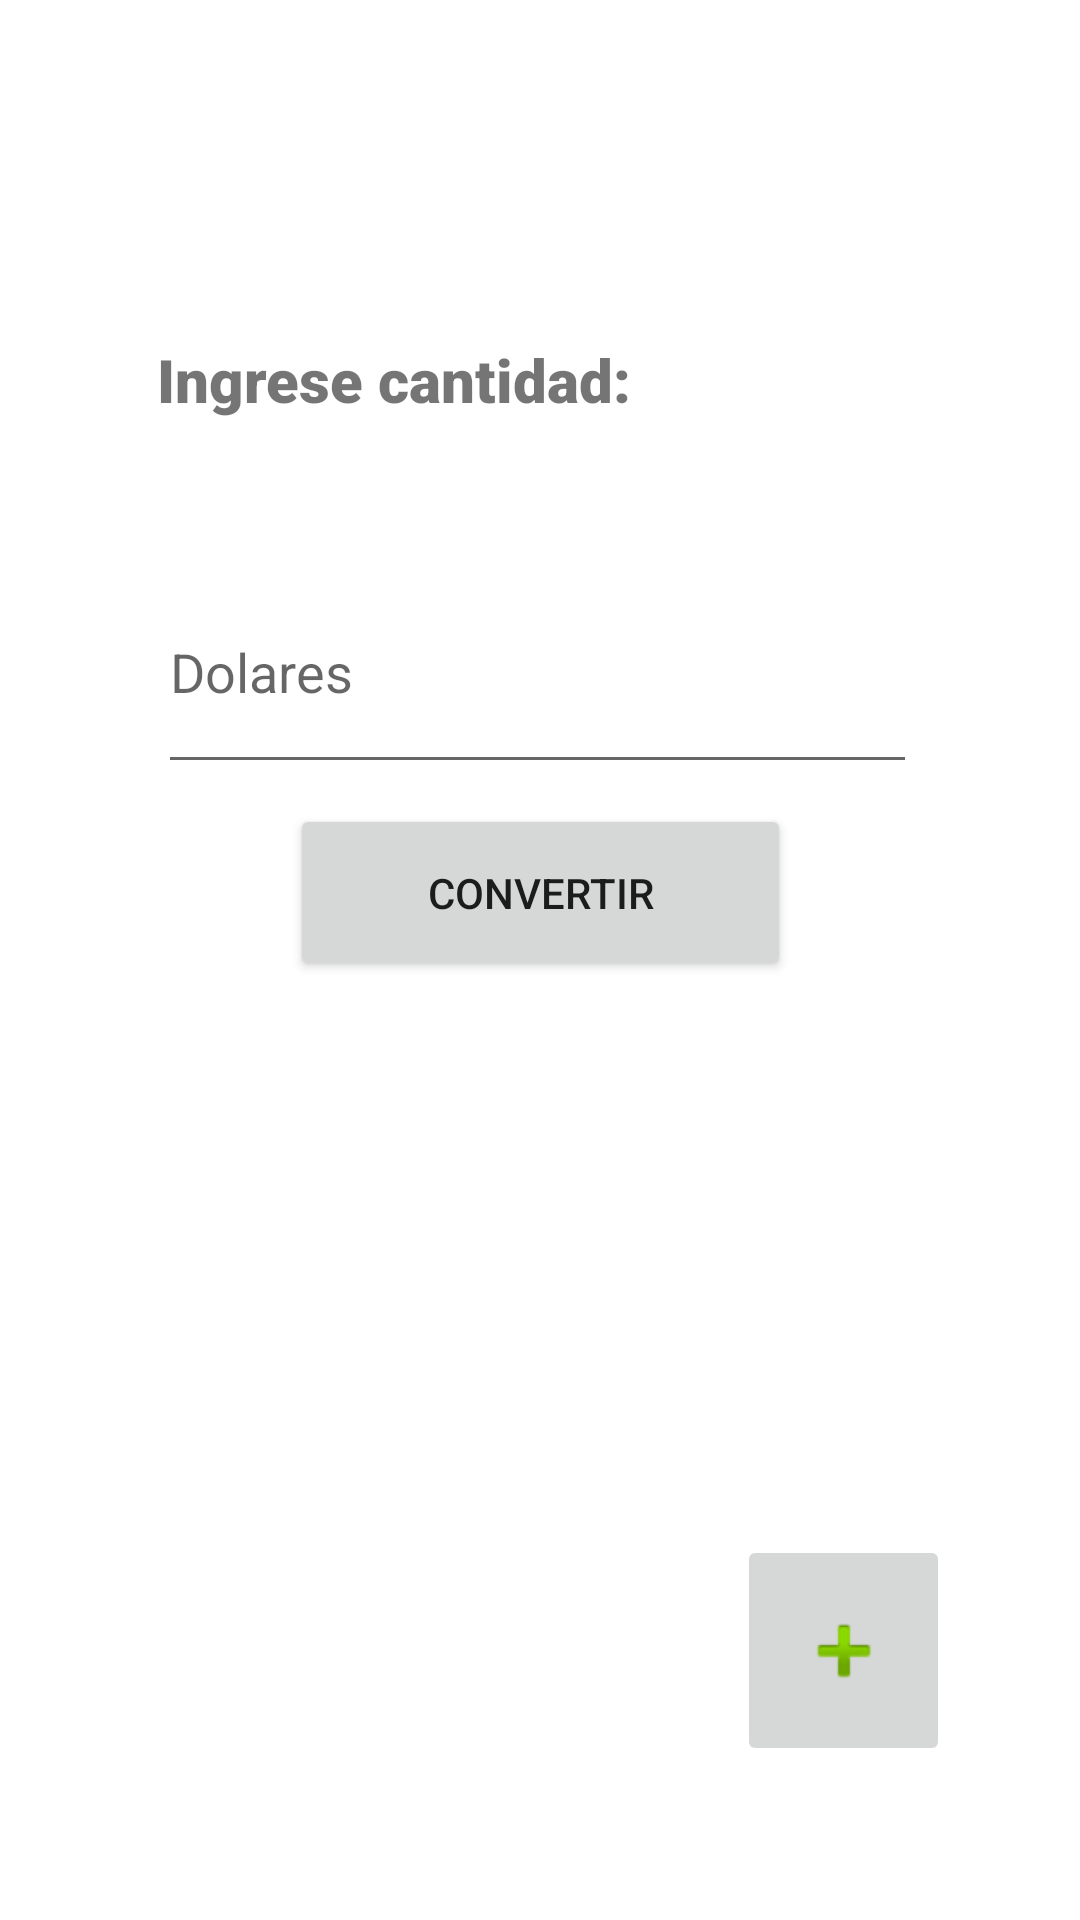

Named icons in this screenshot (1080 x 1920) and their centers, point (x, y):
add: point (843, 1650)
